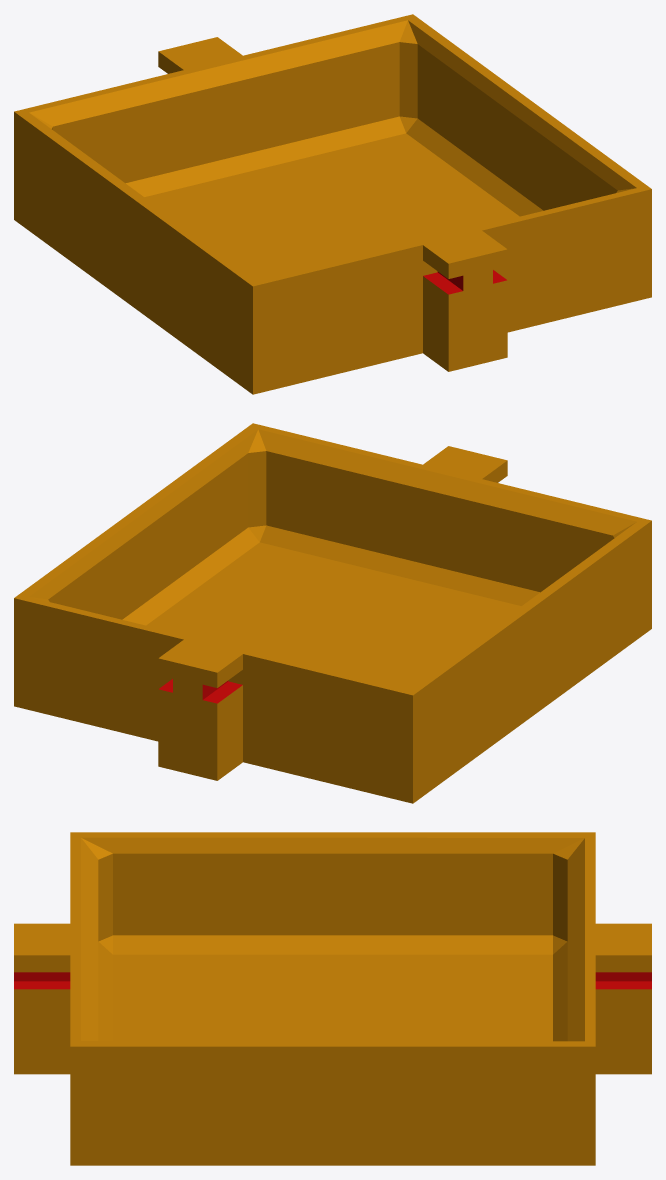
File: sink.obj
3 views of the same model, one above another, from view 1: azimuth 30°, elevation 25°; view 2: azimuth 150°, elevation 25°; view 3: azimuth 270°, elevation 25° (orthographic). The views are drawn at different scales.
Visible parts, largest first — view 1: Cube; view 2: Cube; view 3: Cube.
Part boxes in pixels (x1,y1,x2,y2): Cube: (14,14,651,394); Cube: (14,423,651,803); Cube: (14,832,651,1165).
Size of the model in its own units: 0.27 by 0.07 by 0.34.
